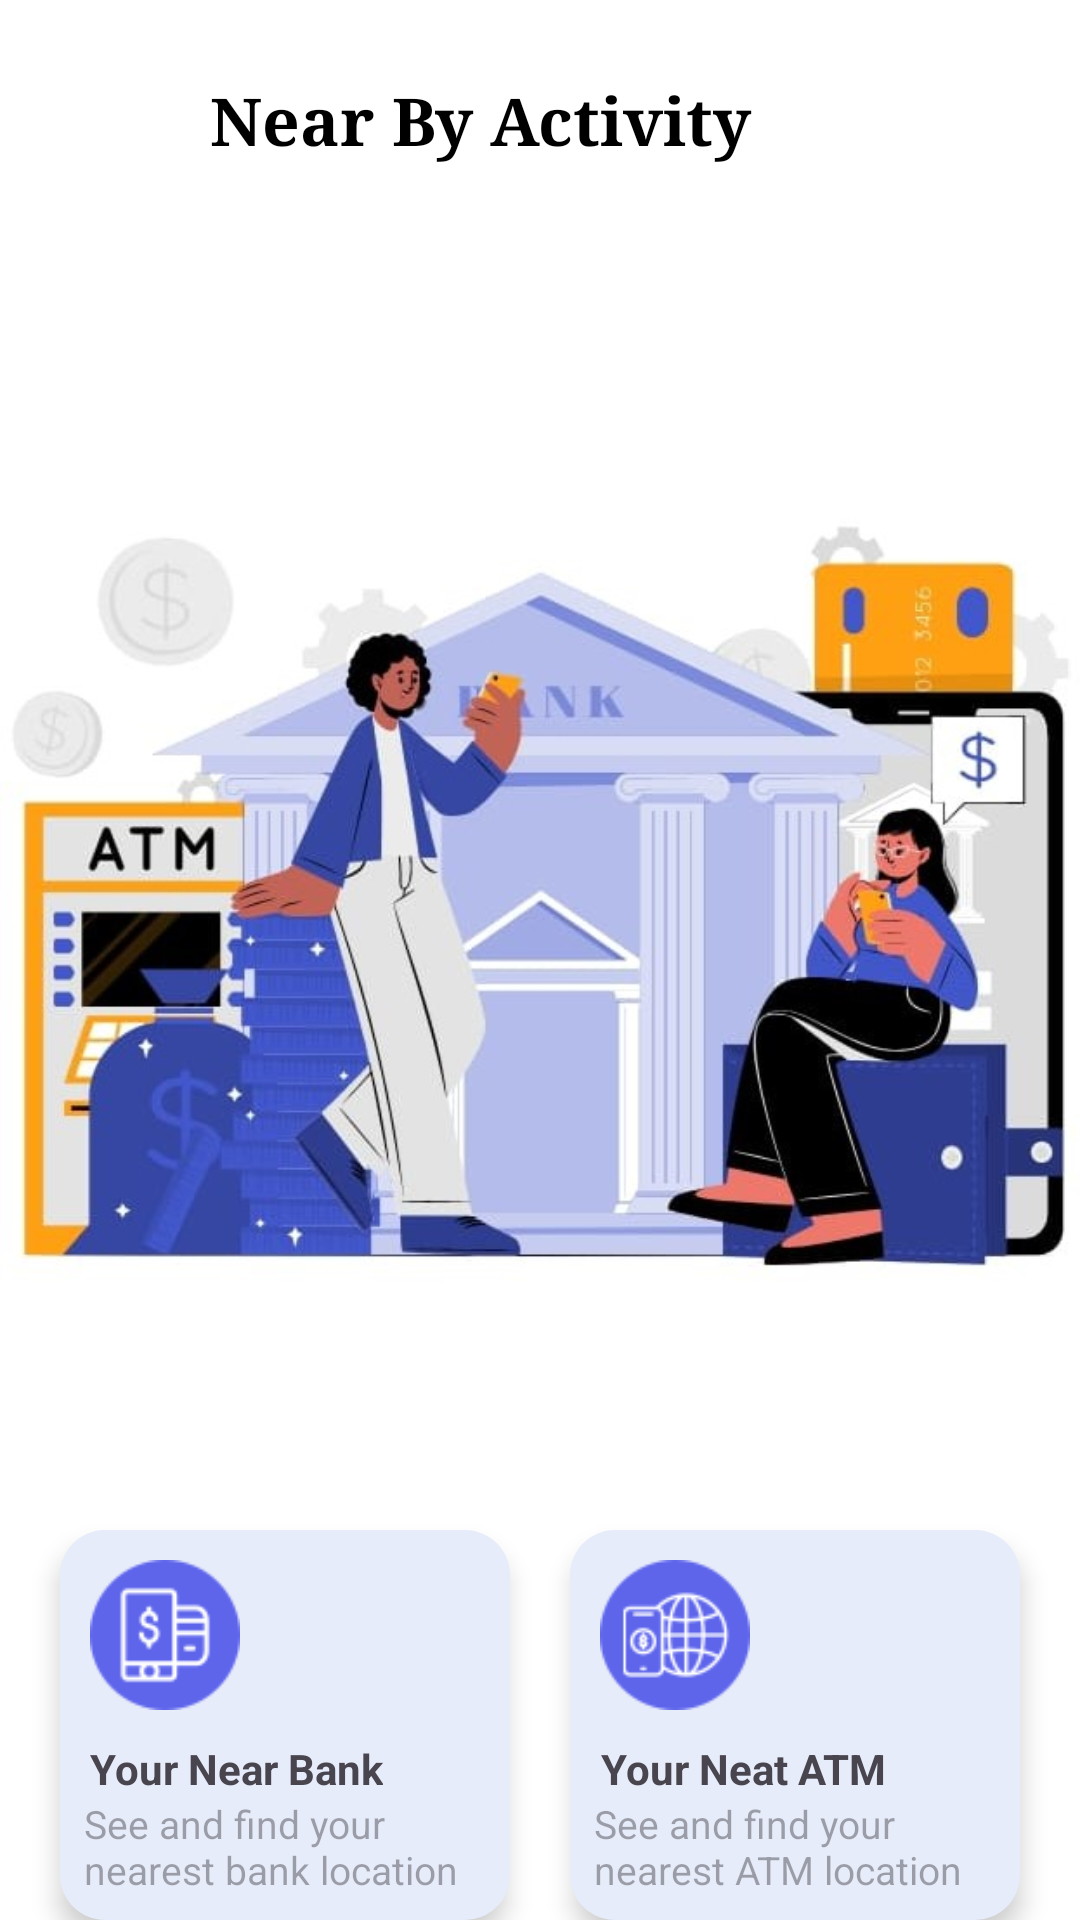

Icon click points for this 1080×1920 phone screenshot, format [x,y]:
smsbankingimage: [165,1635]
